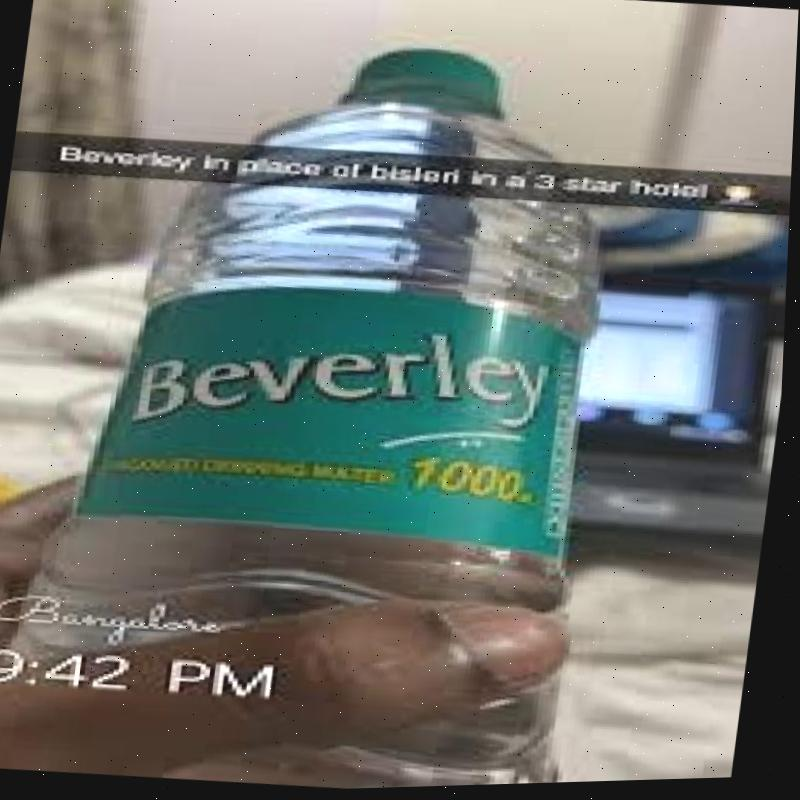botella: (0, 17, 654, 800)
